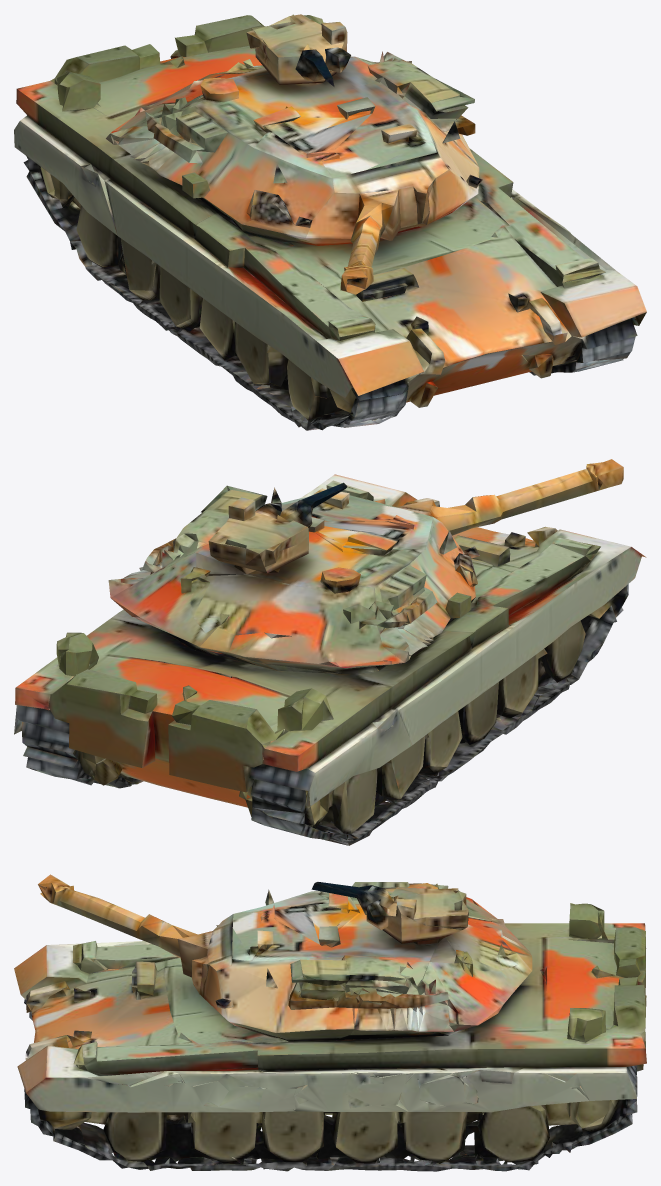
File: tank_type10.glb
3 views of the same model, one above another, from view 1: azimuth 30°, elevation 25°; view 2: azimuth 150°, elevation 25°; view 3: azimuth 270°, elevation 25° (orthographic). The views are drawn at different scales.
Visible parts, largest first — view 1: tank_type10; view 2: tank_type10; view 3: tank_type10.
Part boxes in pixels (x1=…): tank_type10: x1=14, y1=14, x2=646, y2=430; tank_type10: x1=14, y1=459, x2=646, y2=845; tank_type10: x1=14, y1=874, x2=646, y2=1171.
Size of the model in its own units: 4.74 by 3.79 by 9.4.
Materials: 1 (1 with a texture image).
